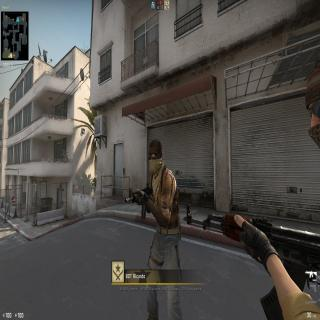T-Head: (146, 135, 164, 172)
